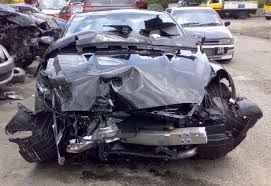Broken-glass: (103, 14, 169, 39)
Smashed: (5, 50, 236, 165)
